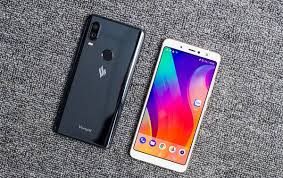vsmart: (46, 13, 142, 154), (129, 38, 220, 176)
